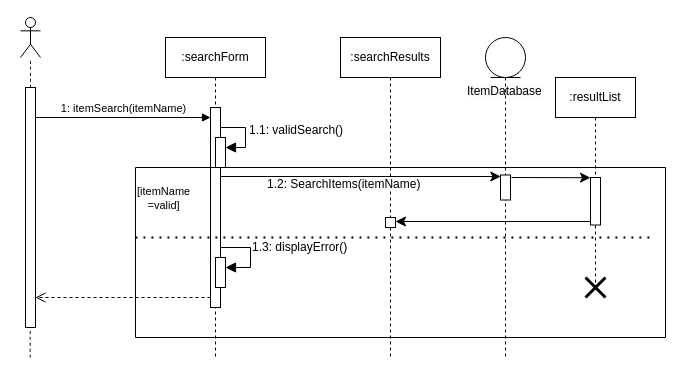
The diagram is 683 pixels wide and 376 high, and some of its shapes have lost their labels. The shapes that lost their labels are listed below. From the top down, each one's box as (x1, y1, x2, y2) in pixels, then its label:
(20, 16, 40, 58): :user
(134, 166, 666, 338): [else]
